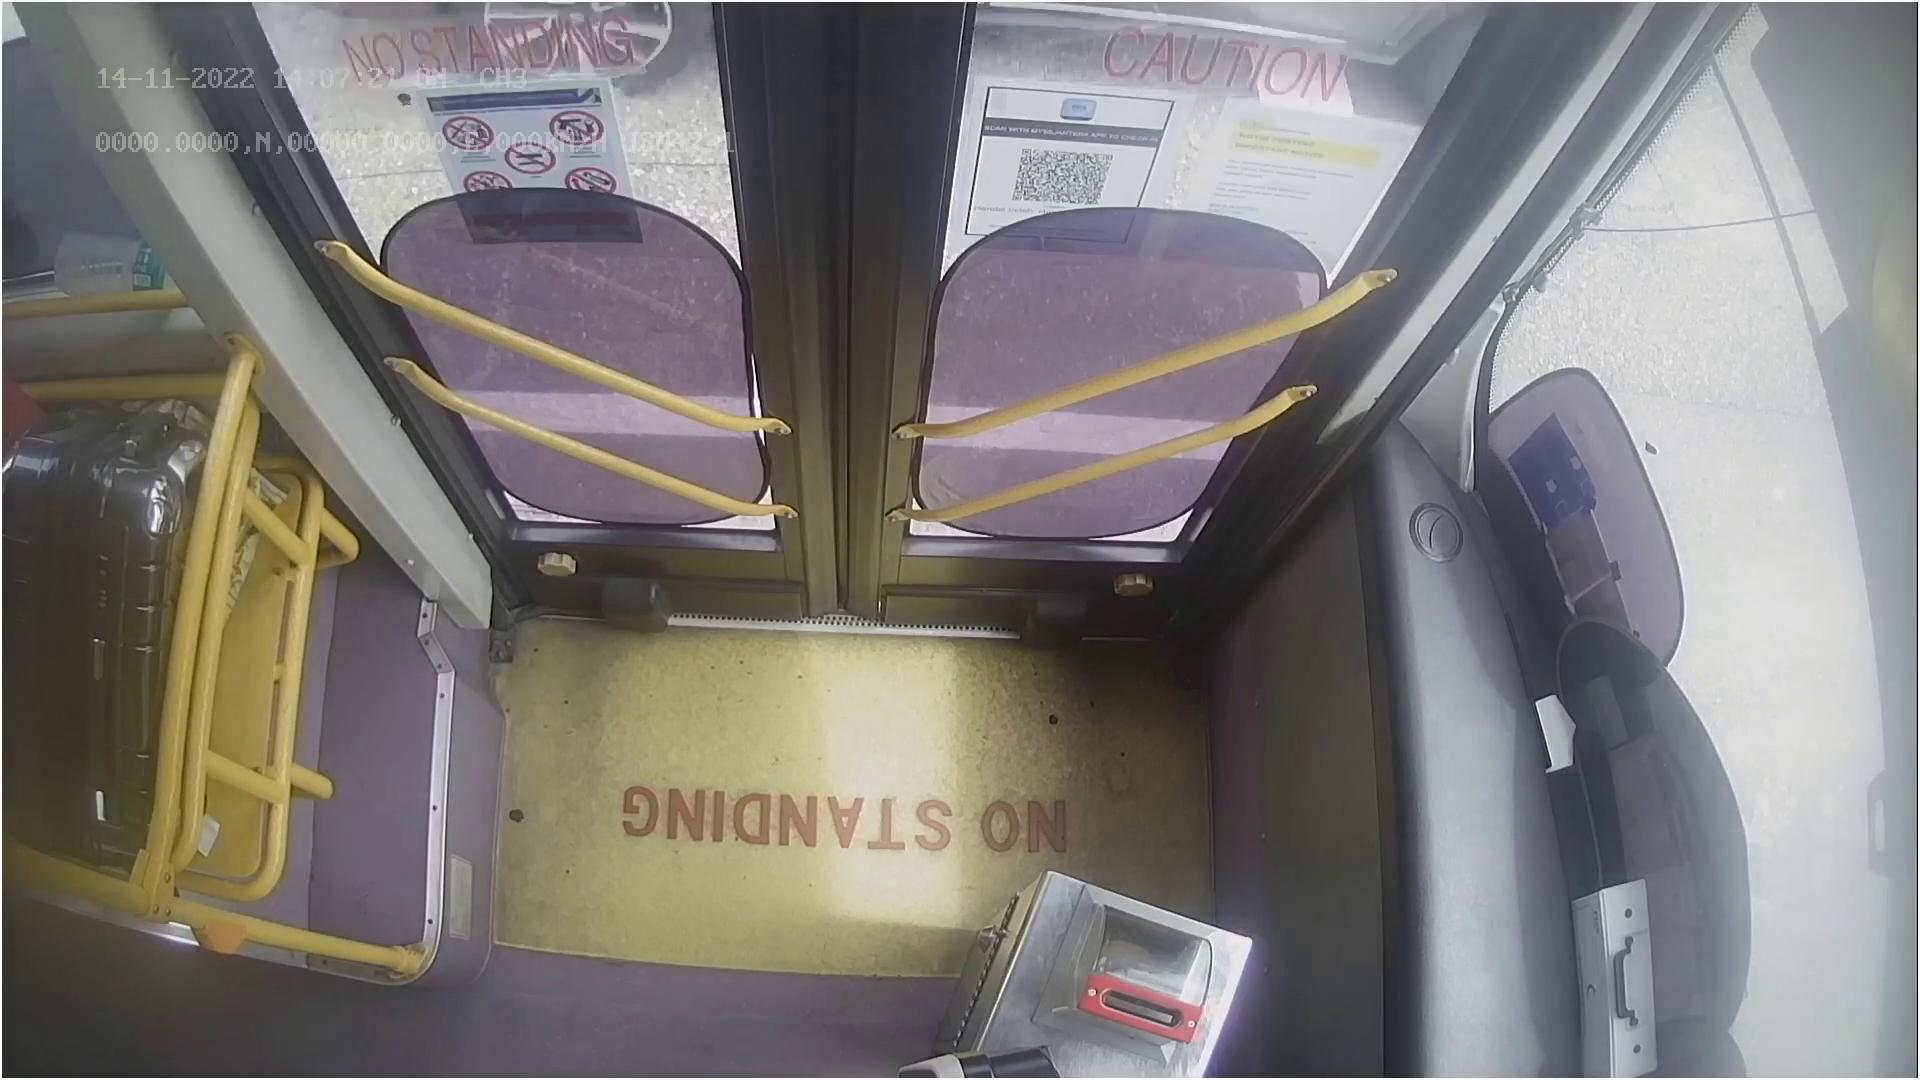close: (286, 0, 1444, 166)
